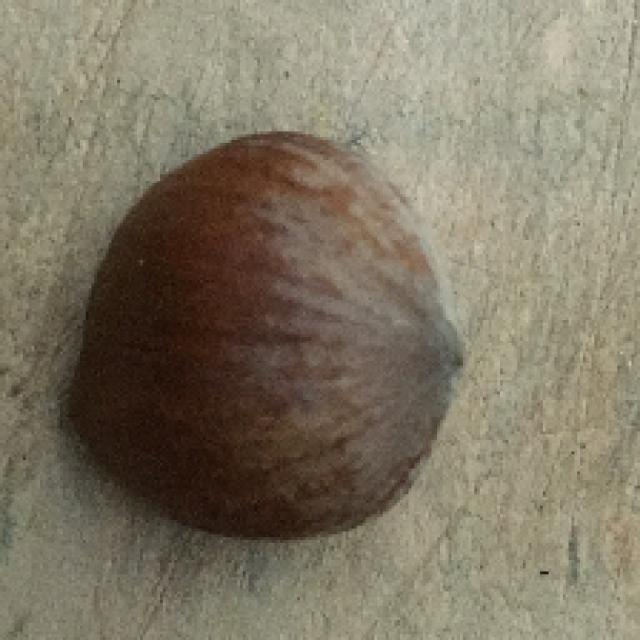QualityHazelnut: (63, 133, 477, 540)
